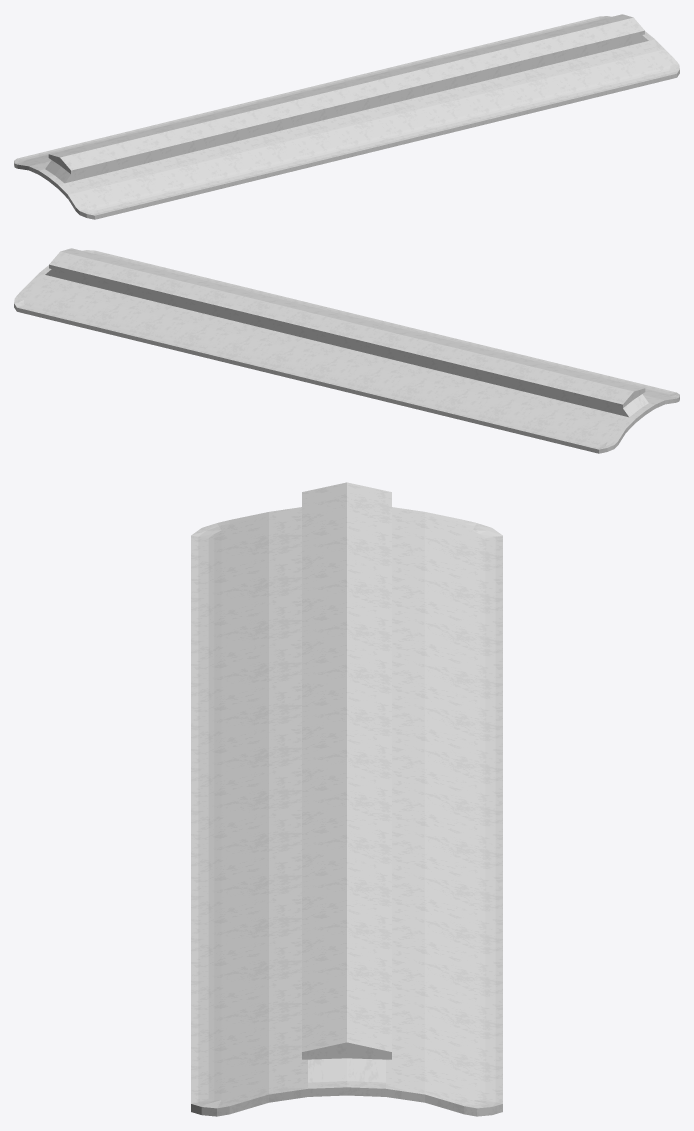
Rendered from Train Coach Roof_A_001.fbx.
3 views of the same model, one above another, from view 1: azimuth 30°, elevation 25°; view 2: azimuth 150°, elevation 25°; view 3: azimuth 270°, elevation 25° (orthographic). The views are drawn at different scales.
Parts seen in each view (by area): view 1: Train_Coach_Roof_A_001; view 2: Train_Coach_Roof_A_001; view 3: Train_Coach_Roof_A_001.
Boxes of the visible parts, x1,y1,x2,y2 form: Train_Coach_Roof_A_001: (14, 14, 679, 219); Train_Coach_Roof_A_001: (14, 248, 679, 453); Train_Coach_Roof_A_001: (191, 482, 502, 1116).
Bounding box in the file's own units: 1377 × 71.65 × 310.
Materials: 2 (2 with a texture image).
